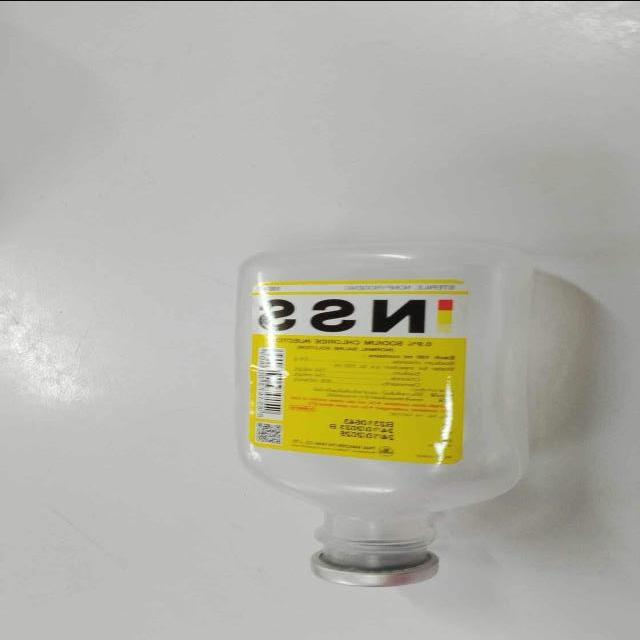General: (246, 275, 471, 466)
Sharps: (231, 239, 591, 587)
